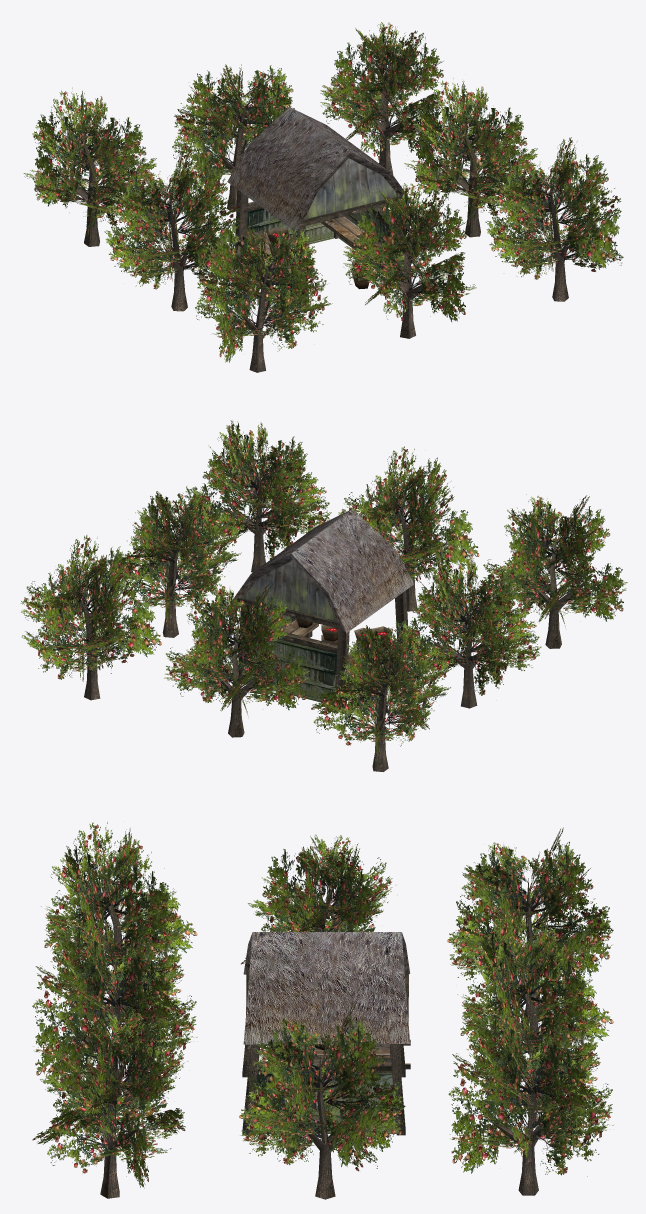
The picture shows the model from 3 angles, top to bottom: view 1: azimuth 30°, elevation 25°; view 2: azimuth 150°, elevation 25°; view 3: azimuth 270°, elevation 25°; orthographic projection. The views are drawn at different scales.
Parts seen in each view (by area): view 1: farm_apple.001, AppleTree_8, AppleTree_4, AppleTree_6, AppleTree_7, AppleTree_1, AppleTree_5, AppleTree_3, AppleTree_2; view 2: farm_apple.001, AppleTree_3, AppleTree_2, AppleTree_6, AppleTree_4, AppleTree_1, AppleTree_8, AppleTree_5, AppleTree_7; view 3: farm_apple.001, AppleTree_3, AppleTree_5, AppleTree_8, AppleTree_7, AppleTree_1, AppleTree_6, AppleTree_2, AppleTree_4.
Boxes of the visible parts, x1=… form: farm_apple.001: x1=227, y1=107, x2=411, y2=308; AppleTree_8: x1=485, y1=137, x2=623, y2=301; AppleTree_4: x1=104, y1=146, x2=240, y2=311; AppleTree_6: x1=195, y1=225, x2=332, y2=372; AppleTree_7: x1=343, y1=183, x2=476, y2=338; AppleTree_1: x1=23, y1=87, x2=156, y2=246; AppleTree_5: x1=404, y1=78, x2=537, y2=237; AppleTree_3: x1=320, y1=22, x2=447, y2=174; AppleTree_2: x1=172, y1=64, x2=294, y2=211; farm_apple.001: x1=232, y1=509, x2=414, y2=707; AppleTree_3: x1=20, y1=535, x2=161, y2=700; AppleTree_2: x1=164, y1=584, x2=309, y2=737; AppleTree_6: x1=483, y1=494, x2=627, y2=648; AppleTree_4: x1=399, y1=554, x2=541, y2=708; AppleTree_1: x1=311, y1=620, x2=451, y2=771; AppleTree_8: x1=189, y1=420, x2=331, y2=572; AppleTree_5: x1=104, y1=486, x2=241, y2=637; AppleTree_7: x1=338, y1=446, x2=479, y2=611; farm_apple.001: x1=242, y1=932, x2=410, y2=1135; AppleTree_3: x1=448, y1=1010, x2=613, y2=1195; AppleTree_5: x1=239, y1=1003, x2=405, y2=1199; AppleTree_8: x1=32, y1=1010, x2=187, y2=1198; AppleTree_7: x1=32, y1=922, x2=197, y2=1103; AppleTree_1: x1=447, y1=827, x2=613, y2=1022; AppleTree_6: x1=41, y1=821, x2=197, y2=1019; AppleTree_2: x1=457, y1=909, x2=613, y2=1107; AppleTree_4: x1=241, y1=834, x2=395, y2=964.
Bounding box in the file's own units: 1485 × 530 × 1485.
Materials: 8 (8 with a texture image).
